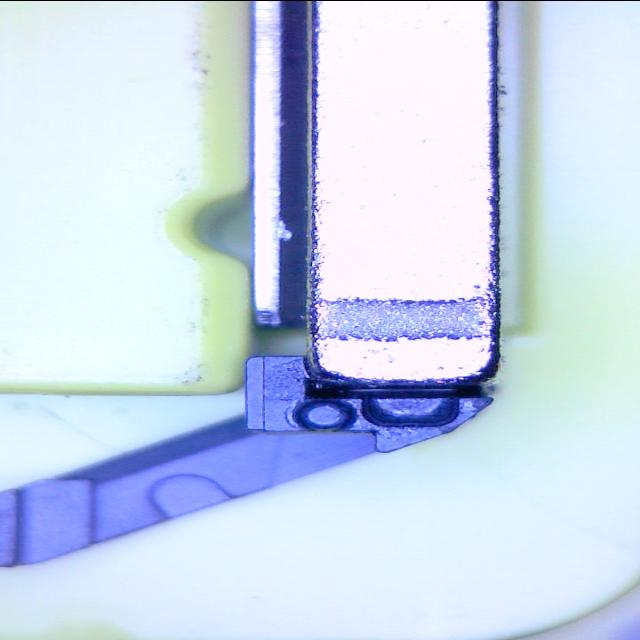good: (358, 391, 462, 427)
